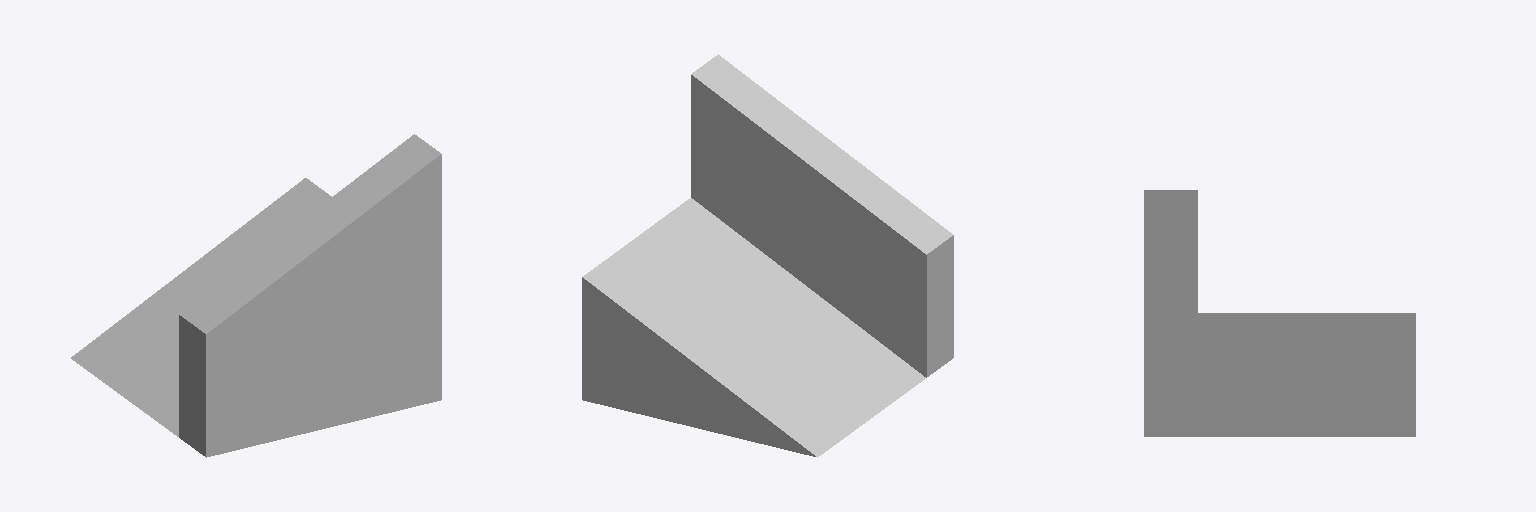
Rendered from Ledge_Ramp_LRG_R.obj.
3 renders of one model, left to right at view 1: azimuth 30°, elevation 25°; view 2: azimuth 150°, elevation 25°; view 3: azimuth 270°, elevation 25°, orthographic.
Parts seen in each view (by area): view 1: Ledge_Ramp_LRG_R; view 2: Ledge_Ramp_LRG_R; view 3: Ledge_Ramp_LRG_R.
Boxes of the visible parts, <box> form: Ledge_Ramp_LRG_R: <box>71,134,441,457</box>; Ledge_Ramp_LRG_R: <box>582,54,953,457</box>; Ledge_Ramp_LRG_R: <box>1144,190,1415,436</box>.
Bounding box in the file's own units: 10 × 10 × 10.